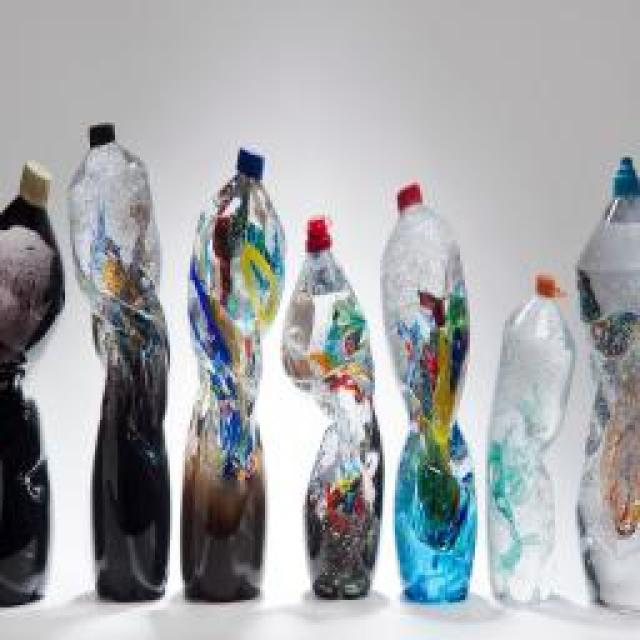bottle: (67, 110, 173, 595), (175, 147, 283, 600), (382, 184, 478, 604), (287, 214, 378, 599), (0, 163, 65, 605), (487, 278, 570, 602), (581, 156, 640, 610)
